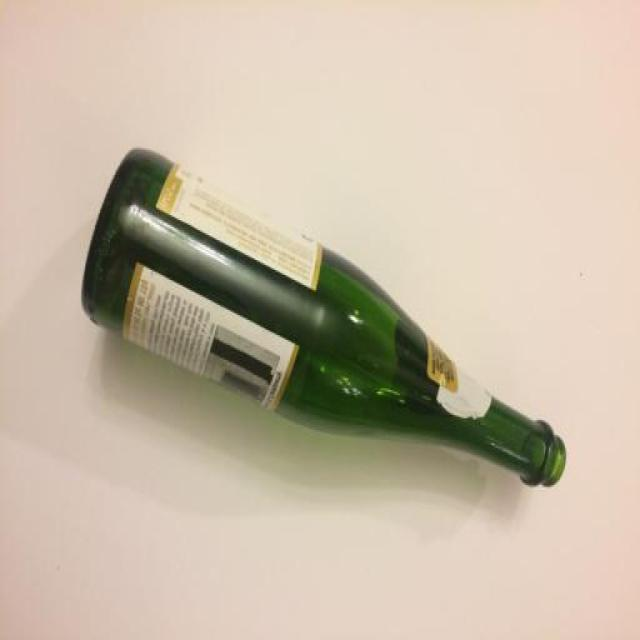glass: (78, 143, 570, 500)
